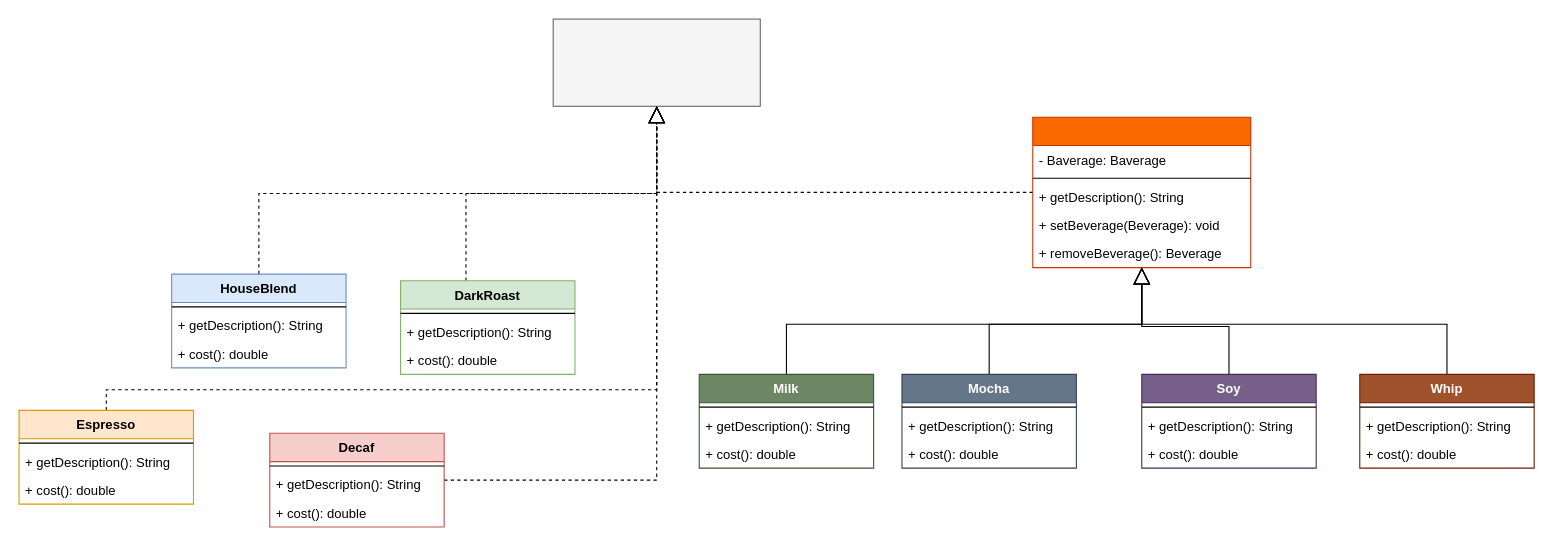
The diagram is 1553 pixels wide and 549 high, and some of its shapes have lost their labels. The shapes that lost their labels are listed below. From the top down, each one's box as (x1, y1, x2, y2) in pixels, then its label:
(552, 18, 760, 106): <<Interface>> Beverage + cost(): double + getDescription: String
(1032, 116, 1251, 268): CondimentDocerator
